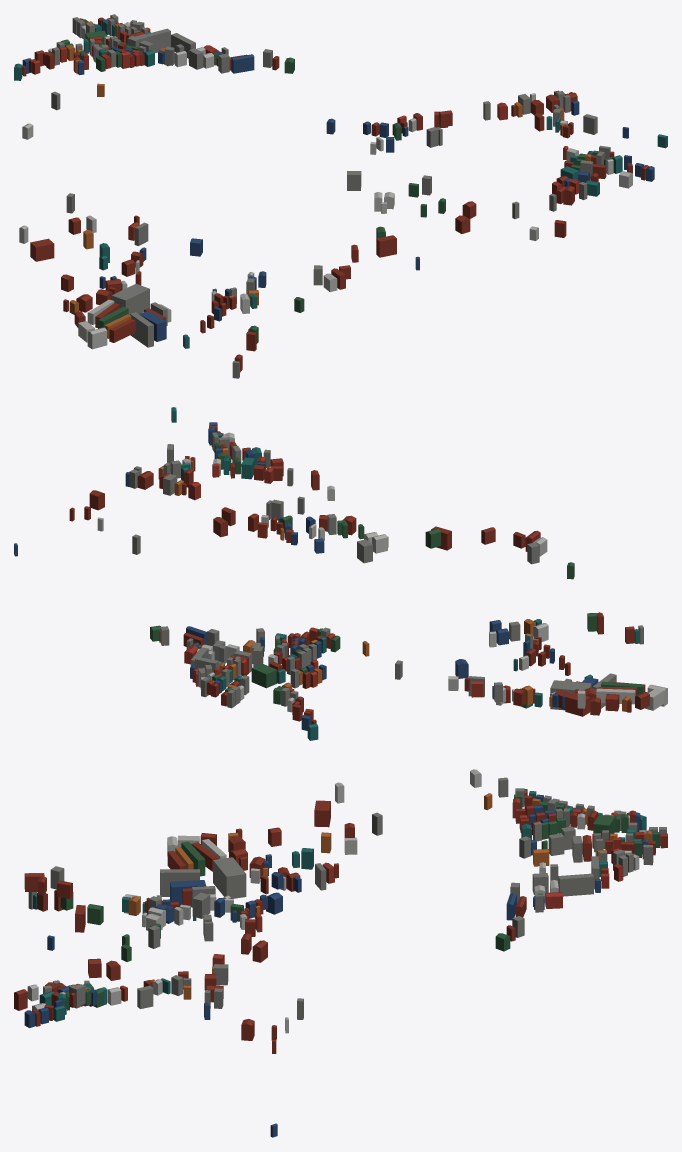
The model's file is near-15-27353-14862.04c34381.glb.
The picture shows the model from 3 angles, top to bottom: view 1: azimuth 30°, elevation 25°; view 2: azimuth 150°, elevation 25°; view 3: azimuth 270°, elevation 25°; orthographic projection. The views are drawn at different scales.
Size of the model in its own units: 954 by 241 by 813.
